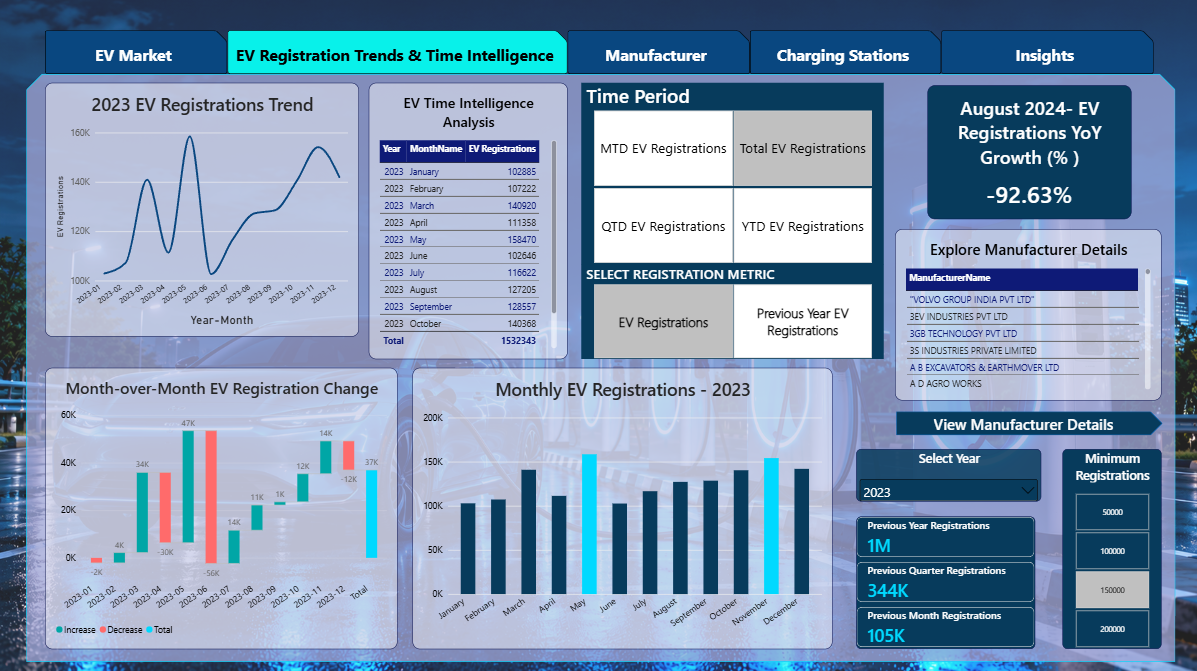

What the dashboard file says about the page in this screenshot:
{"tool":"powerbi","page":{"name":"EV Registration Trends & Time Intelligence","canvas":[1920,1080],"ordinal":1},"visuals":[{"type":"shape","box":[41.1,119,1838.7,940.5],"z":0},{"type":"lineChart","fields":{"Category":["DimDate.YearMonth"],"Y":["DAX_Measures_Tbl.EV Registrations"]},"box":[72,134,502,406],"z":1000},{"type":"tableEx","title":"EV Time Intelligence Analysis","fields":{"Values":["DimDate.Year","DimDate.MonthName","DAX_Measures_Tbl.Total EV Registrations"]},"box":[590,134,318,442],"z":2000},{"type":"kpi","title":"August 2024- EV Registrations YoY Growth (% )","fields":{"Indicator":["DAX_Measures_Tbl.EV Registrations YoY Growth %"],"TrendLine":["DimDate.Date"]},"box":[1484,138,326,214],"z":3000},{"type":"tableEx","title":"Explore Manufacturer Details","fields":{"Values":["DimManufacturer.ManufacturerName"]},"box":[1432.4,368.8,426,274],"z":4000},{"type":"shape","box":[1434,660,426,38],"z":5000},{"type":"waterfallChart","title":"Month-over-Month EV Registration Change","fields":{"Category":["DimDate.YearMonth"],"Y":["DAX_Measures_Tbl.MoM Registration Change"]},"box":[72,590,564,450],"z":6000},{"type":"slicer","title":"Minimum Registrations","fields":{"Values":["Registration Threshold.Value"]},"box":[1700,720,158,320],"z":7000},{"type":"clusteredColumnChart","fields":{"Category":["DimDate.Date Hierarchy.MonthName"],"Y":["DAX_Measures_Tbl.Total EV Registrations"]},"box":[660,590,672,450],"z":8000},{"type":"slicer","title":"Select Year","fields":{"Values":["DimDate.Date Hierarchy.Year"]},"box":[1370,720,296,84],"z":9000},{"type":"cardVisual","fields":{"Data":["DAX_Measures_Tbl.Previous Year Registrations","DAX_Measures_Tbl.Previous Quarter Registrations","DAX_Measures_Tbl.Previous Month Registrations"]},"box":[1370,828,286,212],"z":10000},{"type":"actionButton","box":[72,50,291.7,70],"z":11000},{"type":"actionButton","box":[364,50,544,70],"z":12000},{"type":"actionButton","box":[908,50,291.7,70],"z":13000},{"type":"textbox","box":[1236,14,300,86],"z":14000},{"type":"actionButton","box":[1200,50,306,70],"z":15000},{"type":"actionButton","box":[1506,50,340,70],"z":16000},{"type":"slicer","fields":{"Values":["Time Intelligence.Period"]},"box":[930,134,484,290],"z":17000},{"type":"slicer","fields":{"Values":["EV Measure Selector.EV Measure Selector"]},"box":[930,424,484,152],"z":18000}]}

Visuals, with their boxes in screenshot pixels (x1, y1, x2, y2), scaled from the page's 1920x1080 canvas onto the 1197x671 screenshot:
shape: Rect(26, 74, 1172, 658)
lineChart - DimDate.YearMonth x DAX_Measures_Tbl.EV Registrations: Rect(45, 83, 358, 336)
"EV Time Intelligence Analysis" tableEx: Rect(368, 83, 566, 358)
"August 2024- EV Registrations YoY Growth (% )" kpi: Rect(925, 86, 1128, 219)
"Explore Manufacturer Details" tableEx: Rect(893, 229, 1159, 399)
shape: Rect(894, 410, 1160, 434)
"Month-over-Month EV Registration Change" waterfallChart: Rect(45, 367, 397, 646)
"Minimum Registrations" slicer: Rect(1060, 447, 1158, 646)
clusteredColumnChart - DimDate.Date Hierarchy.MonthName x DAX_Measures_Tbl.Total EV Registrations: Rect(411, 367, 830, 646)
"Select Year" slicer: Rect(854, 447, 1039, 500)
cardVisual - DAX_Measures_Tbl.Previous Year Registrations x DAX_Measures_Tbl.Previous Quarter Registrations: Rect(854, 514, 1032, 646)
actionButton: Rect(45, 31, 227, 75)
actionButton: Rect(227, 31, 566, 75)
actionButton: Rect(566, 31, 748, 75)
textbox: Rect(771, 9, 958, 62)
actionButton: Rect(748, 31, 939, 75)
actionButton: Rect(939, 31, 1151, 75)
slicer - Time Intelligence.Period: Rect(580, 83, 882, 263)
slicer - EV Measure Selector.EV Measure Selector: Rect(580, 263, 882, 358)
